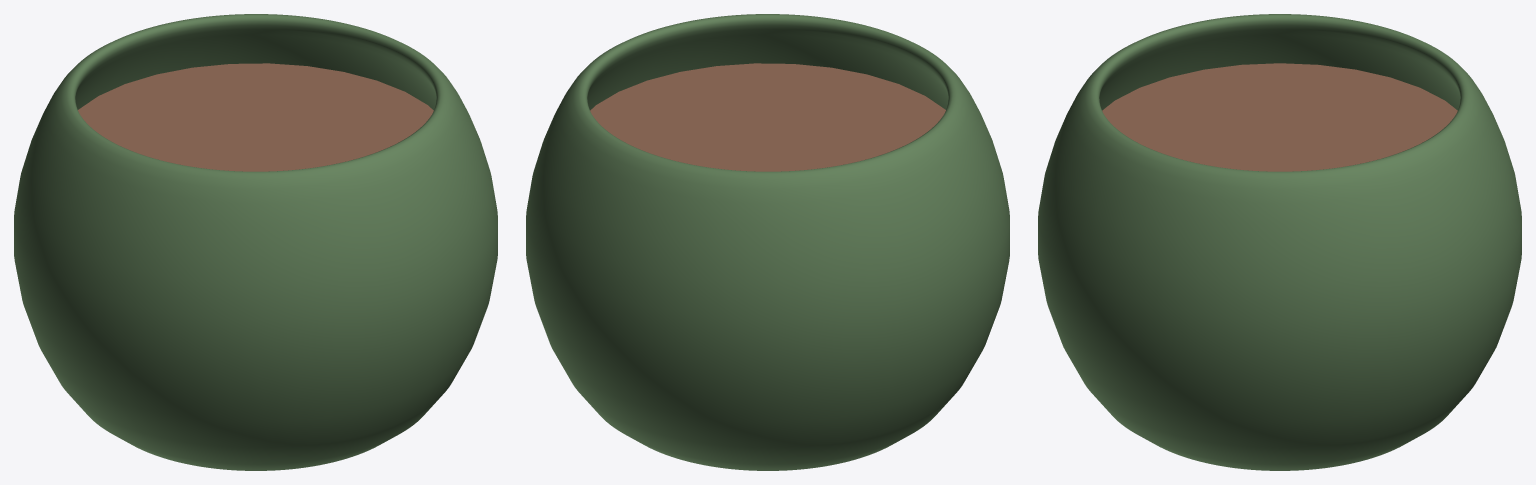
File: round_green.glb
3 renders of one model, left to right at view 1: azimuth 30°, elevation 25°; view 2: azimuth 150°, elevation 25°; view 3: azimuth 270°, elevation 25°, orthographic.
Visible parts, largest first — view 1: Circle.004, Circle.005; view 2: Circle.004, Circle.005; view 3: Circle.004, Circle.005.
Boxes of the visible parts, x1=… form: Circle.004: x1=14, y1=14, x2=497, y2=470; Circle.005: x1=78, y1=63, x2=433, y2=171; Circle.004: x1=526, y1=14, x2=1009, y2=470; Circle.005: x1=590, y1=63, x2=945, y2=171; Circle.004: x1=1038, y1=14, x2=1521, y2=470; Circle.005: x1=1102, y1=63, x2=1457, y2=171.
Size of the model in its own units: 13.78 by 10.23 by 13.78.
